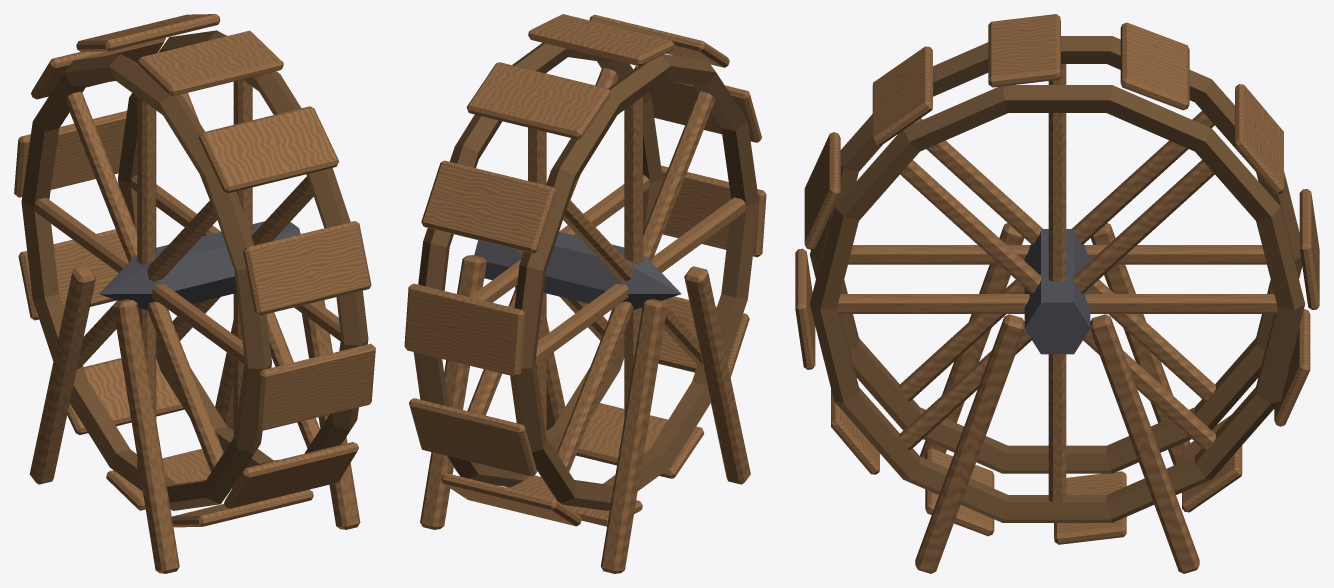
Rendered from WaterWheel.glb.
3 views of the same model, side by side, from view 1: azimuth 30°, elevation 25°; view 2: azimuth 150°, elevation 25°; view 3: azimuth 270°, elevation 25° (orthographic). The views are drawn at different scales.
Visible parts, largest first — view 1: WaterWheel; view 2: WaterWheel; view 3: WaterWheel.
Part boxes in pixels (<box>): WaterWheel: <box>14,14,375,573</box>; WaterWheel: <box>404,14,766,573</box>; WaterWheel: <box>795,14,1319,573</box>.
Size of the model in its own units: 1.65 by 3.67 by 3.61.
1 material, 1 textured.
